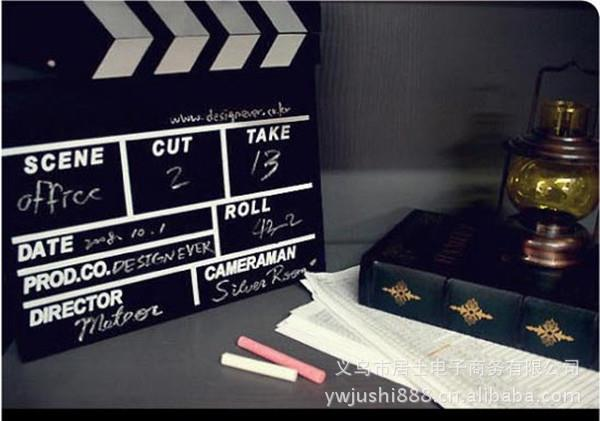clapperboard: (19, 8, 319, 340)
